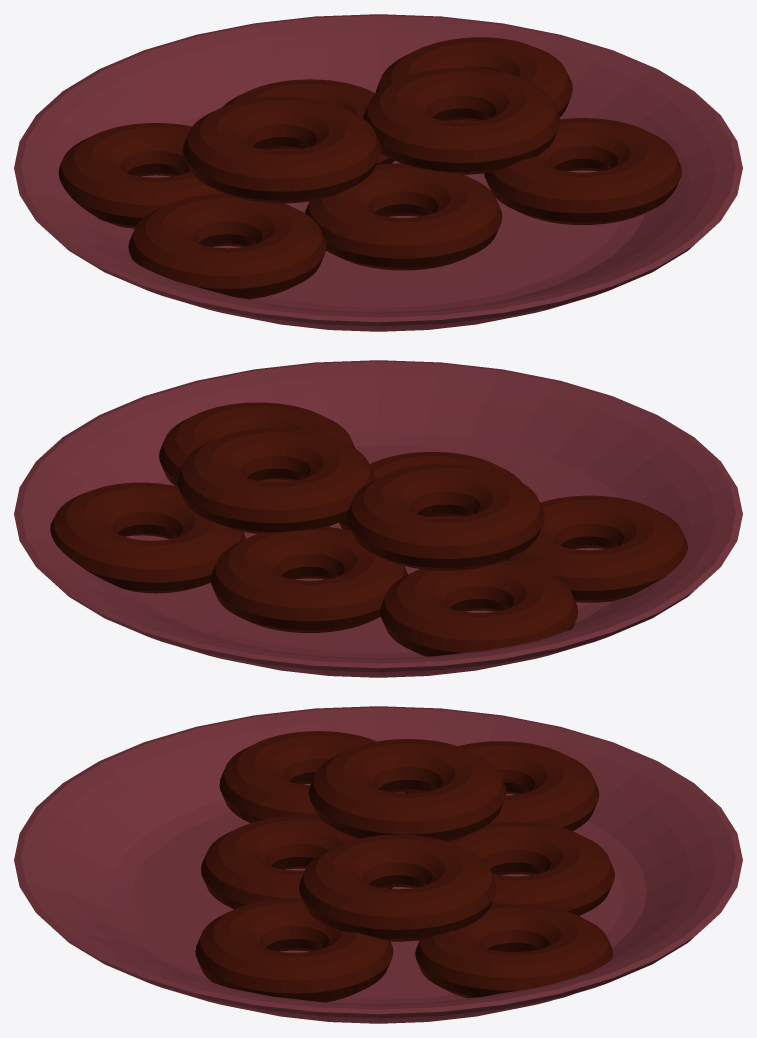
Rendered from ALI AGREM.fbx.
3 renders of one model, top to bottom at view 1: azimuth 30°, elevation 25°; view 2: azimuth 150°, elevation 25°; view 3: azimuth 270°, elevation 25°, orthographic.
Parts seen in each view (by area): view 1: Cylinder, Torus.007, Torus.006, Torus.003, Torus.004, Torus.005, Torus.002, Torus.001, Torus; view 2: Cylinder, Torus.007, Torus.006, Torus, Torus.001, Torus.002, Torus.003, Torus.005, Torus.004; view 3: Cylinder, Torus.006, Torus.007, Torus.005, Torus.001, Torus, Torus.004, Torus.003, Torus.002.
Boxes of the visible parts, box(x1,y1,x2,y2) form: Cylinder: box(14, 14, 742, 331); Torus.007: box(183, 96, 380, 203); Torus.006: box(363, 67, 560, 174); Torus.003: box(128, 193, 326, 299); Torus.004: box(305, 163, 502, 270); Torus.005: box(484, 118, 681, 224); Torus.002: box(58, 123, 224, 228); Torus.001: box(375, 37, 572, 122); Torus: box(222, 79, 394, 165); Cylinder: box(14, 360, 742, 677); Torus.007: box(346, 463, 544, 570); Torus.006: box(177, 427, 374, 533); Torus: box(210, 526, 407, 632); Torus.001: box(50, 482, 245, 593); Torus.002: box(380, 560, 578, 656); Torus.003: box(506, 495, 687, 602); Torus.005: box(159, 402, 355, 486); Torus.004: box(339, 452, 521, 530); Cylinder: box(14, 706, 742, 1023); Torus.006: box(298, 834, 496, 941); Torus.007: box(308, 739, 506, 841); Torus.005: box(195, 898, 393, 1002); Torus.001: box(415, 904, 612, 998); Torus: box(448, 821, 614, 915); Torus.004: box(201, 816, 392, 909); Torus.003: box(219, 731, 406, 822); Torus.002: box(406, 741, 599, 831).
Bounding box in the file's own units: 231 × 36.44 × 231.
